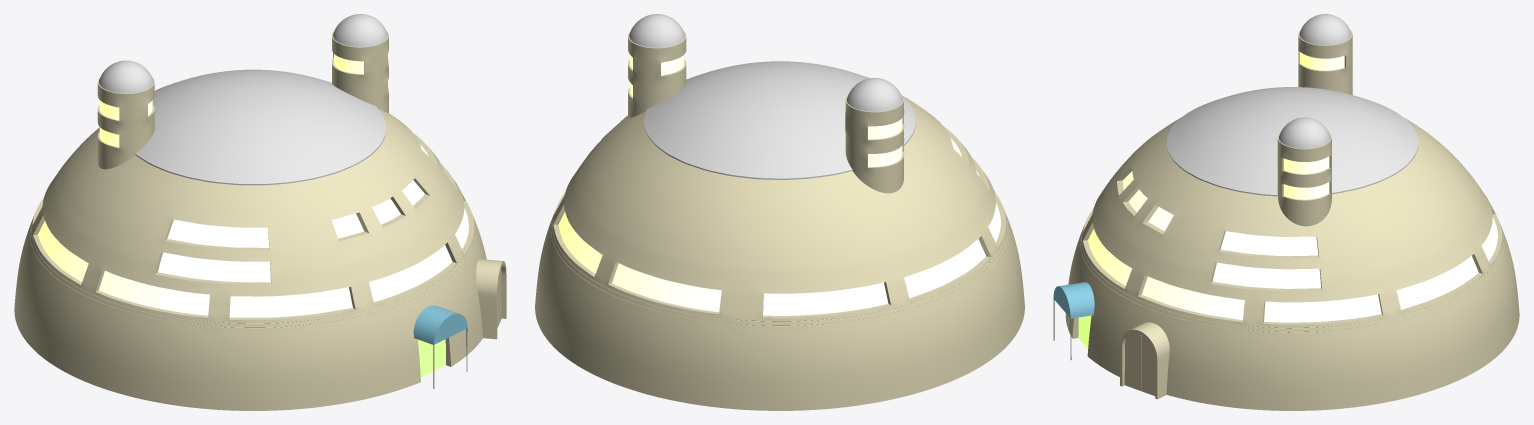
The picture shows the model from 3 angles, left to right: view 1: azimuth 30°, elevation 25°; view 2: azimuth 150°, elevation 25°; view 3: azimuth 270°, elevation 25°; orthographic projection. The views are drawn at different scales.
Visible parts, largest first — view 1: Sphere003_1, Sphere003_4, Sphere003_2, Sphere004, Sphere004_1, Cylinder, Sphere002, Sphere004_2, Sphere003_3; view 2: Sphere003_1, Sphere003_4, Sphere003_2, Sphere004, Sphere004_1, Sphere004_2; view 3: Sphere003_1, Sphere003_4, Sphere003_2, Sphere004, Cylinder, Sphere004_1, Sphere004_2, Sphere002.
Part boxes in pixels (x1,y1,x2,y2): Sphere003_1: (14, 109, 486, 410); Sphere003_4: (135, 69, 385, 185); Sphere003_2: (38, 144, 468, 317); Sphere004: (97, 31, 388, 169); Sphere004_1: (99, 14, 387, 93); Cylinder: (476, 259, 506, 339); Sphere002: (413, 305, 467, 388); Sphere004_2: (99, 54, 363, 147); Sphere003_3: (418, 339, 445, 377); Sphere003_1: (535, 95, 1024, 410); Sphere003_4: (644, 61, 915, 179); Sphere003_2: (558, 137, 1000, 315); Sphere004: (628, 31, 904, 193); Sphere004_1: (629, 14, 902, 111); Sphere004_2: (630, 55, 902, 166); Sphere003_1: (1065, 117, 1519, 410); Sphere003_4: (1166, 87, 1418, 196); Sphere003_2: (1088, 171, 1497, 322); Sphere004: (1277, 30, 1352, 226); Cylinder: (1120, 322, 1169, 399); Sphere004_1: (1279, 14, 1351, 148); Sphere004_2: (1284, 52, 1344, 199); Sphere002: (1053, 282, 1094, 359).
Bounding box in the file's own units: 3.99 × 2.41 × 4.1.
